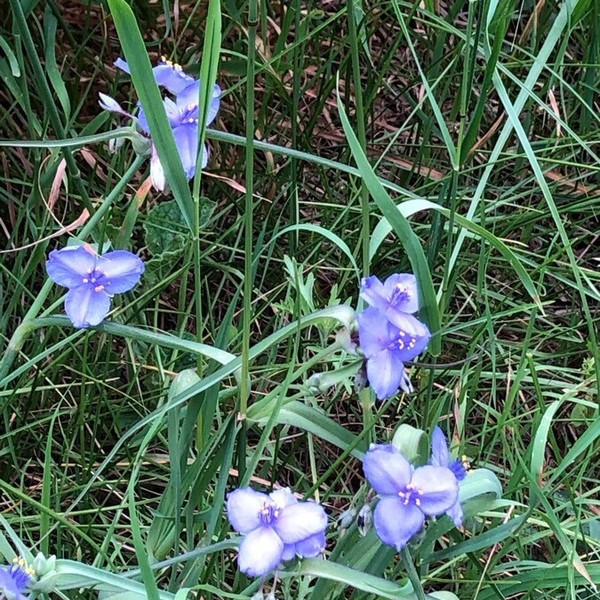obstacle: (79, 91, 520, 588)
